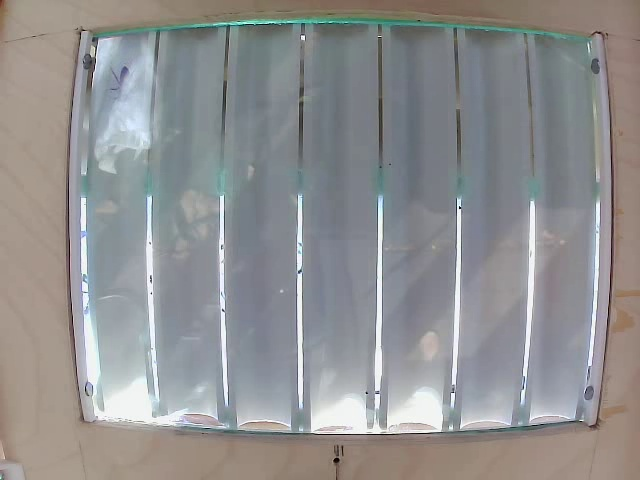bee: (105, 62, 133, 102)
